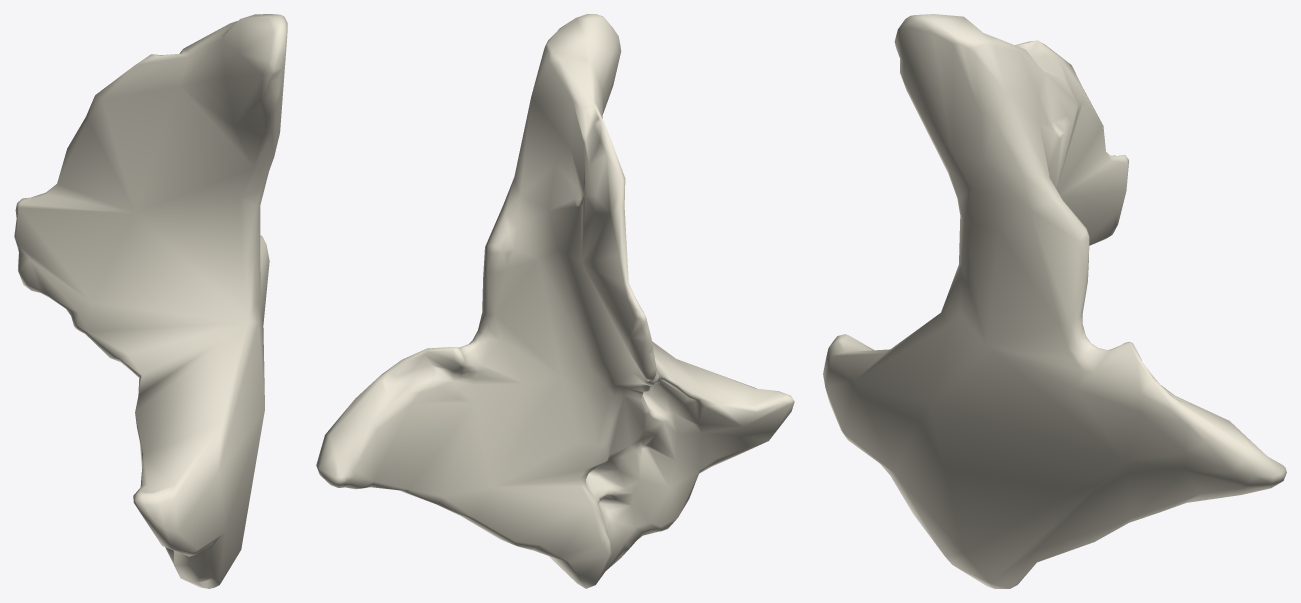
The picture shows the model from 3 angles, left to right: view 1: azimuth 30°, elevation 25°; view 2: azimuth 150°, elevation 25°; view 3: azimuth 270°, elevation 25°; orthographic projection. The views are drawn at different scales.
Parts seen in each view (by area): view 1: ZA_296f37ae76006092; view 2: ZA_296f37ae76006092; view 3: ZA_296f37ae76006092.
Boxes of the visible parts, x1,y1,x2,y2 form: ZA_296f37ae76006092: (14,14,287,588); ZA_296f37ae76006092: (316,14,794,588); ZA_296f37ae76006092: (823,14,1286,588).
Bounding box in the file's own units: 0.0307 × 0.0547 × 0.039.
